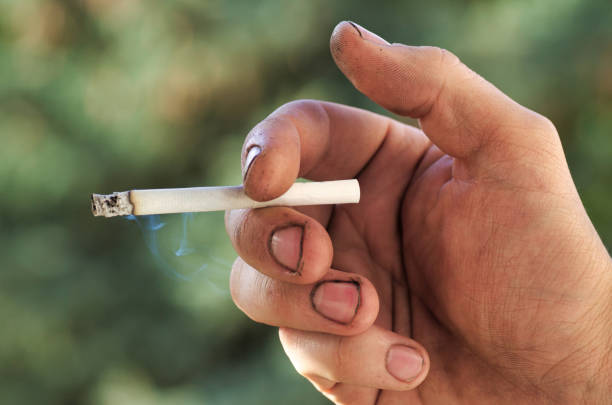cigarette: (88, 176, 361, 220)
